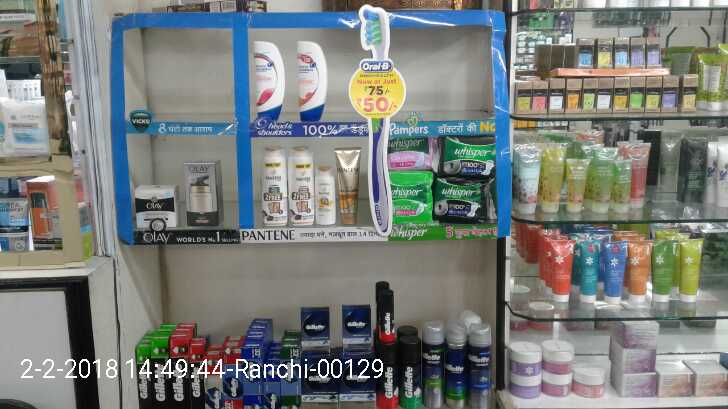beauty: (288, 34, 335, 122), (250, 38, 287, 121), (183, 154, 222, 225), (128, 180, 177, 228), (336, 139, 362, 229), (286, 153, 314, 228), (259, 148, 285, 227), (421, 327, 443, 409), (471, 326, 492, 409), (399, 335, 422, 409), (376, 341, 400, 409), (446, 328, 466, 409), (300, 300, 332, 345), (343, 296, 375, 341), (188, 343, 209, 409), (168, 338, 188, 406), (303, 354, 337, 392), (134, 346, 154, 409), (149, 339, 167, 409), (314, 165, 333, 228), (342, 356, 375, 390), (379, 286, 397, 345), (222, 362, 243, 409), (246, 342, 259, 409)
